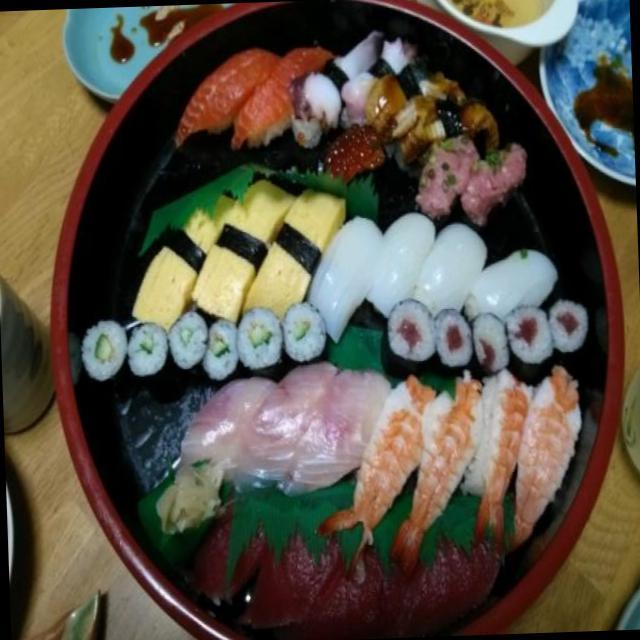Sushi: (76, 23, 588, 566)
